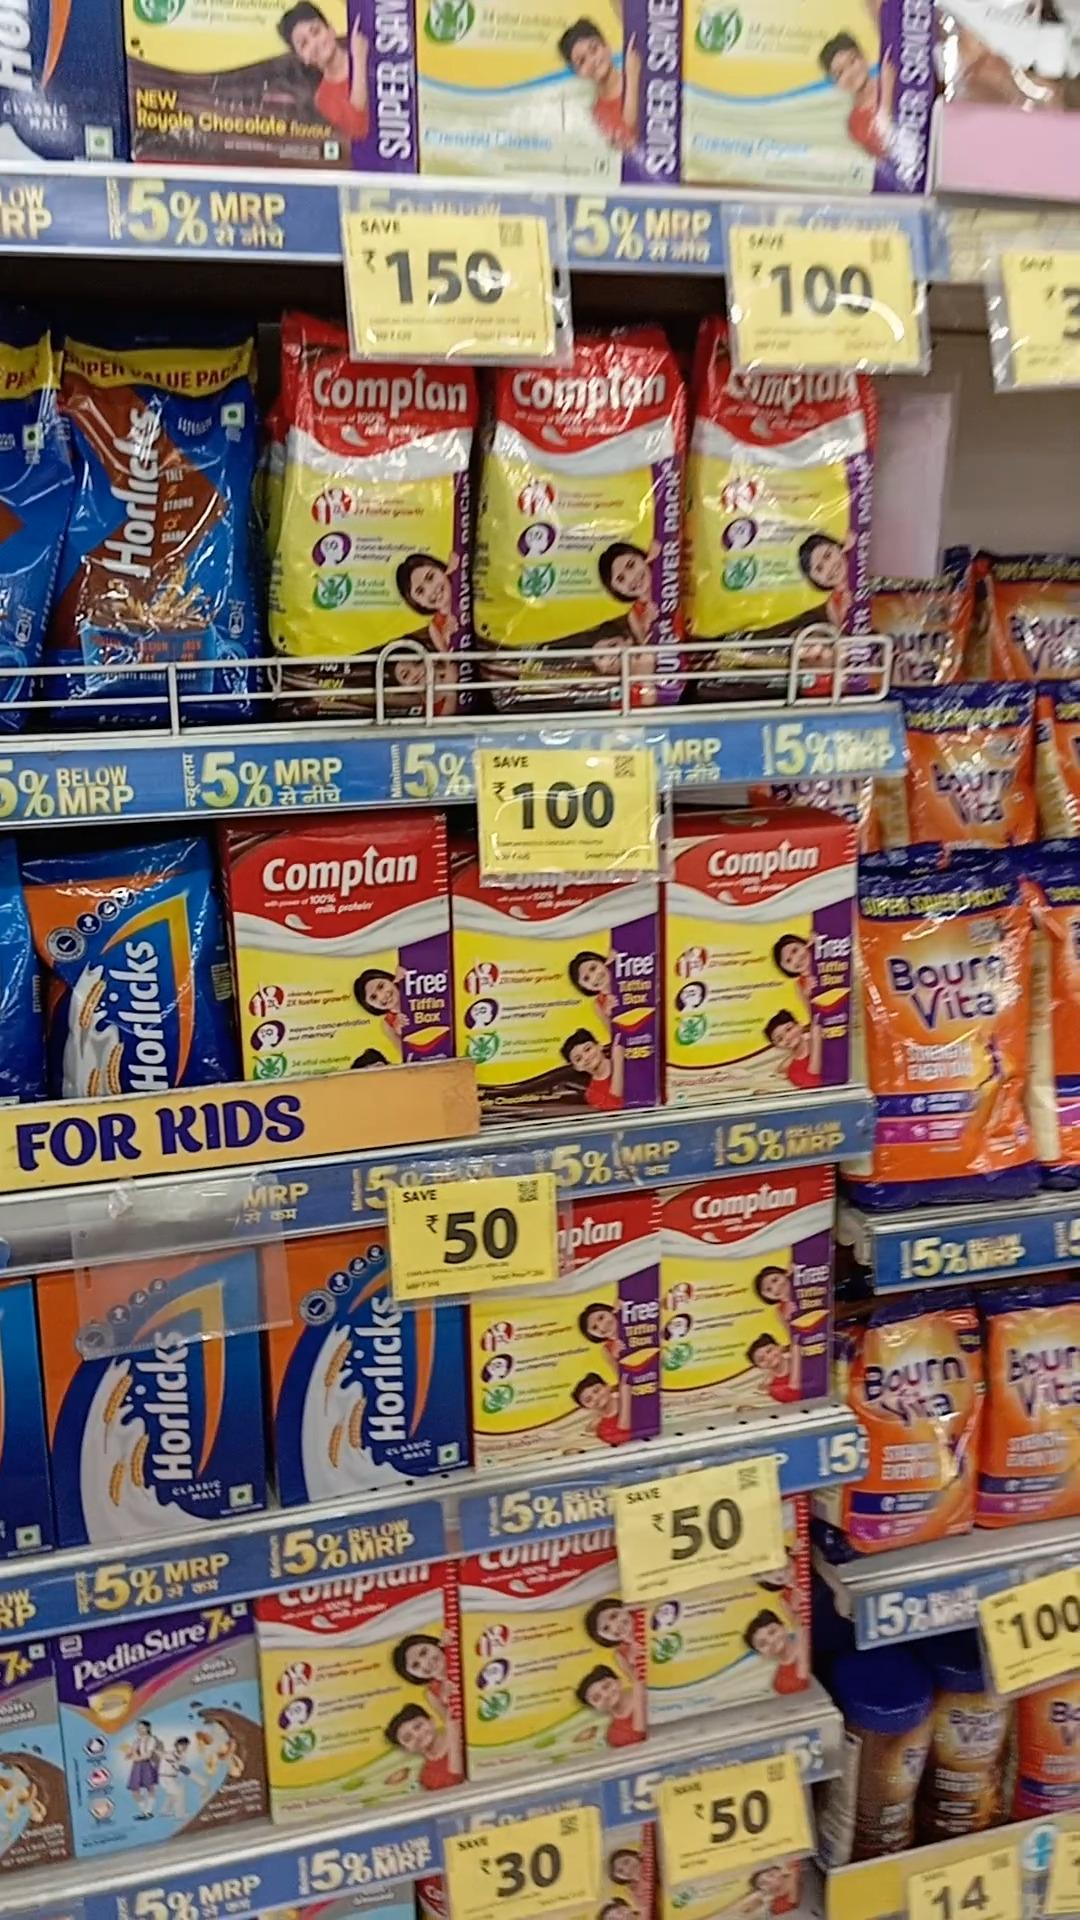BOURN_VITA_1_KG_POUCH: (877, 882, 1039, 1220), (907, 699, 1029, 853)
BOURN_VITA_500_G_JAR: (1021, 1663, 1080, 1818)
BOURN_VITA_750_G_POUCH: (853, 1323, 980, 1545), (985, 1305, 1080, 1535)
BOURN_VITA_FIVE_STAR_MAGIC_500_G_JAR: (940, 1680, 1007, 1825)
COMPLAN_CHOCOLATE_500_GMS_PACK: (243, 818, 440, 1079), (476, 874, 657, 1125)
COMPLAN_CREAMY_CLASSIC_500_G_PACK: (653, 1572, 799, 1718)
COMPLAN_KESAR_BADAM_500_GMS_PACK: (479, 1195, 650, 1469), (675, 831, 837, 1087), (666, 1172, 836, 1411)
COMPLAN_PISTA_BADAM_500_GMS_PACK: (268, 1564, 443, 1813), (462, 1530, 621, 1780)
COMPLAN_RC_POUCH_700_GMS_12: (491, 344, 683, 709), (298, 368, 477, 717), (699, 369, 865, 704)
HORLICK_CHOCOLATE_750_G_POUCH: (57, 345, 237, 707)
HORLICK_CLASSIC_MALT_500_G_PACK: (61, 1253, 260, 1527), (273, 1234, 459, 1493)
HORLICK_CLASSIC_MALT_750_G_POUCH: (30, 849, 196, 1101)
PEDIASURE_7_PLUS_CHOCOLATE_400_G_PACK: (67, 1605, 244, 1841)
